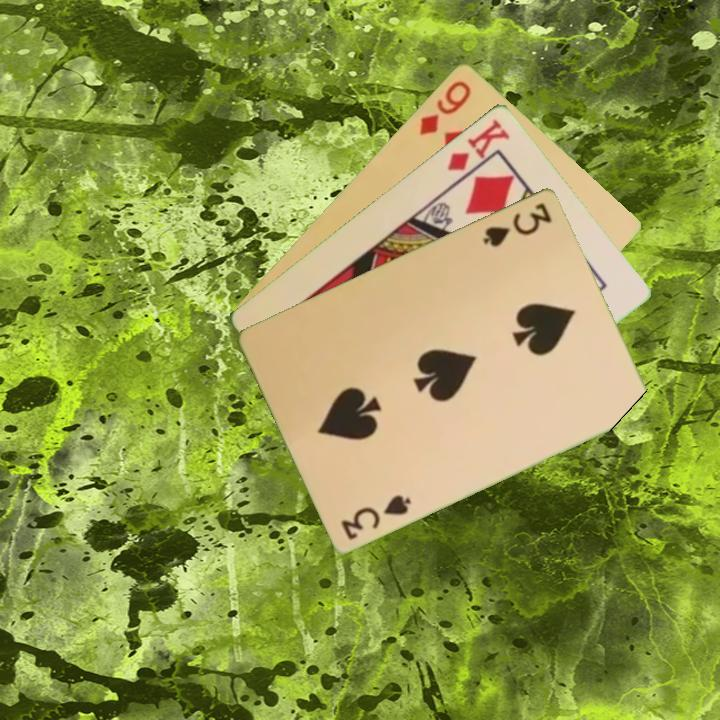3s: (338, 490, 414, 543), (479, 198, 555, 249)
9d: (415, 76, 474, 138)
Kd: (443, 114, 513, 174)
